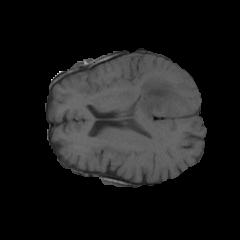glioma: (114, 66, 195, 124)
